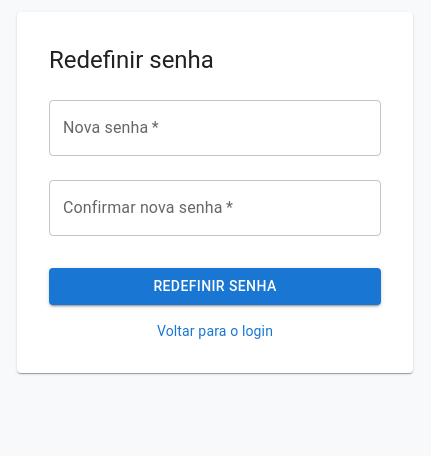
it: ResetPasswordPage › exibe erro se as senhas não coincidirem
Type "123456" into the password field labelled "Nova senha *".
click(215, 128); type("123456")  # box top-left (49, 100), bottom-right (381, 156)
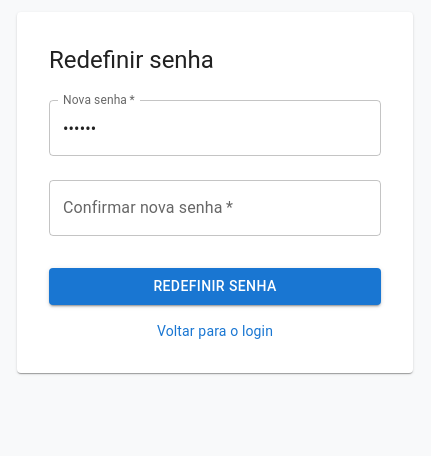
Type "654321" into the password field labelled "Confirmar nova senha *".
click(215, 208); type("654321")  # box top-left (49, 180), bottom-right (381, 236)
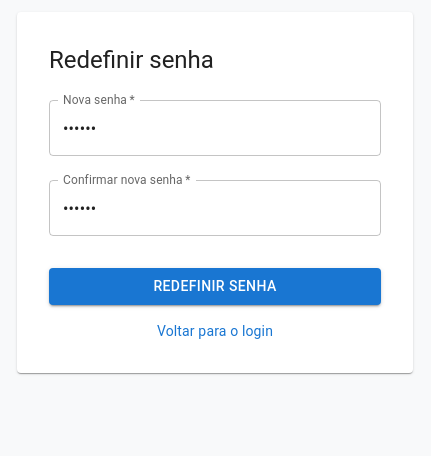
Click the button "Redefinir senha".
click(215, 287)  # box top-left (49, 268), bottom-right (381, 305)
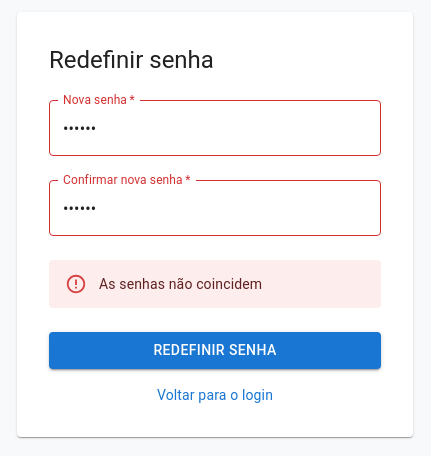
Expected: the text "As senhas não coincidem" is shown, top-left (99, 276), bottom-right (262, 292)
